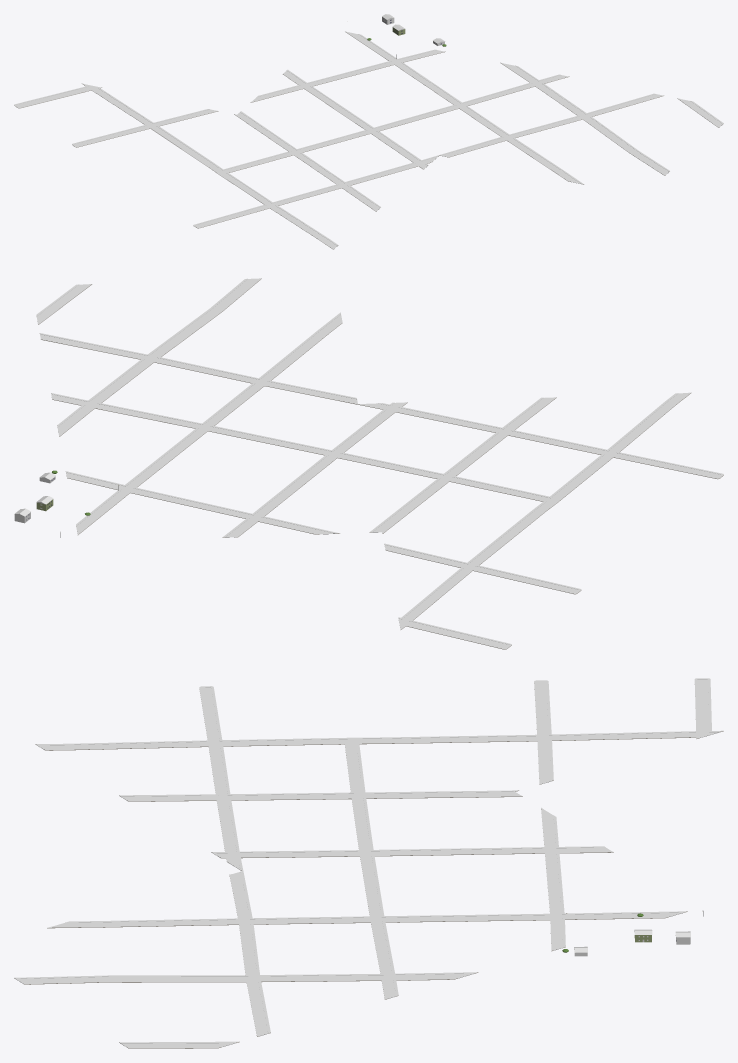
The picture shows the model from 3 angles, top to bottom: view 1: azimuth 30°, elevation 25°; view 2: azimuth 150°, elevation 25°; view 3: azimuth 270°, elevation 25°; orthographic projection. The views are drawn at different scales.
Visible parts, largest first — view 1: col_road, col_sidewalk, sidewalk, col_curb; view 2: col_road, col_sidewalk, col_curb, sidewalk; view 3: col_road, col_sidewalk, col_curb, sidewalk.
Part boxes in pixels (x1,y1,x2,y2): col_road: (16,32,722,248); col_sidewalk: (14,31,723,249); sidewalk: (14,32,719,249); col_curb: (16,34,721,245); col_road: (36,278,720,647); col_sidewalk: (36,278,723,649); col_curb: (37,279,720,648); sidewalk: (38,278,723,649); col_road: (16,679,718,1047); col_sidewalk: (14,678,723,1048); col_curb: (17,679,719,1047); sidewalk: (14,689,723,1048).
Size of the model in its own units: 677 by 8.13 by 549.
